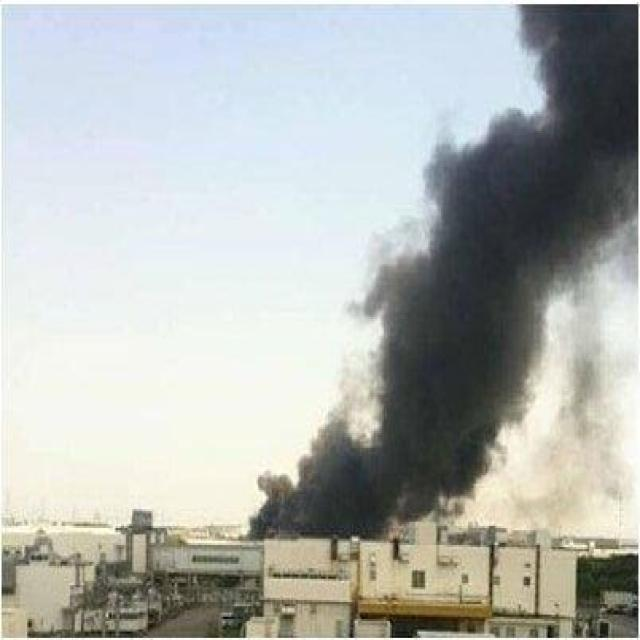Smoke: (237, 4, 638, 543)
